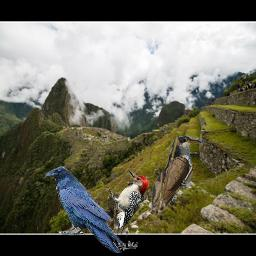Crow: (44, 166, 124, 253)
Cuckoo: (151, 136, 214, 215)
Woodpecker: (103, 168, 150, 238)
